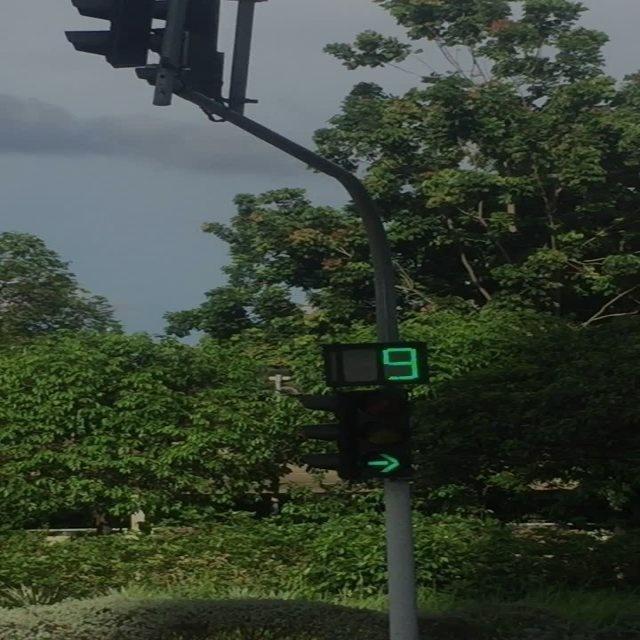Green: (358, 388, 410, 476)
